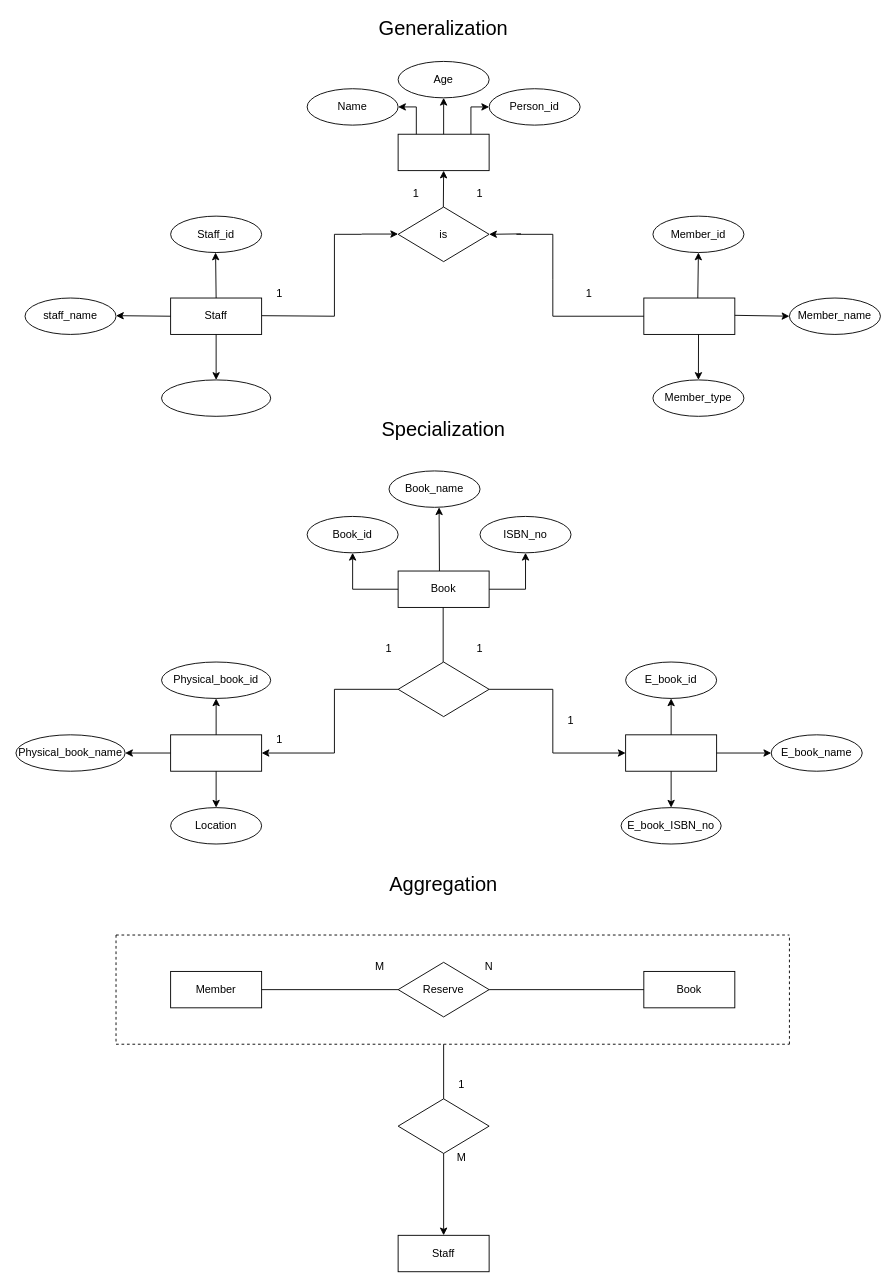
Image size: 896x1288. Some labels were removed from this diagram. The shapes that lost their labels are listed below. From the top down, each one's centre as x and y in pixels, then its label:
point 443,152: Person
point 689,315: Members
point 216,397: staff_designation
point 443,689: Category
point 216,752: Physical_book
point 671,752: E_book
point 443,1125: Loan
